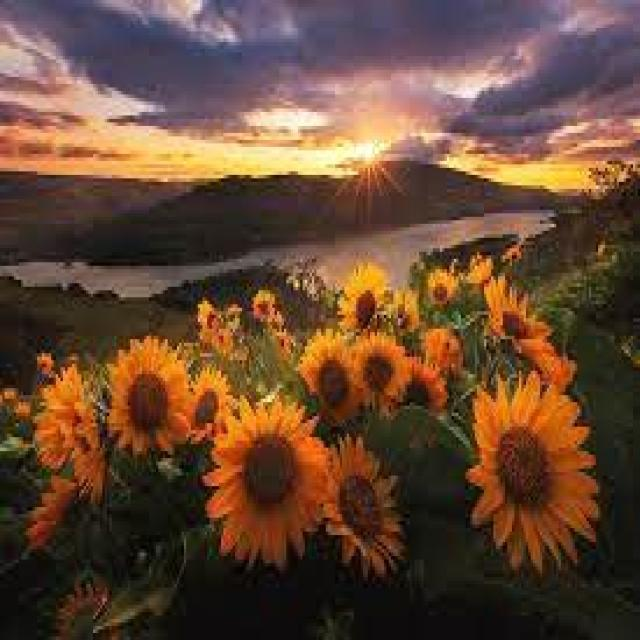sunflower: (466, 369, 598, 574), (202, 394, 328, 566), (319, 433, 405, 577), (108, 332, 188, 458), (298, 325, 363, 423), (482, 274, 550, 360), (34, 364, 82, 469), (62, 401, 106, 505), (349, 328, 405, 409), (23, 472, 77, 549), (338, 258, 388, 332), (183, 364, 230, 441), (519, 332, 575, 392), (54, 577, 106, 635), (396, 353, 446, 413), (426, 325, 464, 378), (386, 284, 419, 332), (251, 287, 282, 329), (428, 268, 456, 304), (466, 252, 490, 284), (196, 298, 218, 328), (215, 328, 234, 357), (200, 328, 216, 351), (274, 328, 289, 351), (38, 350, 50, 373)
